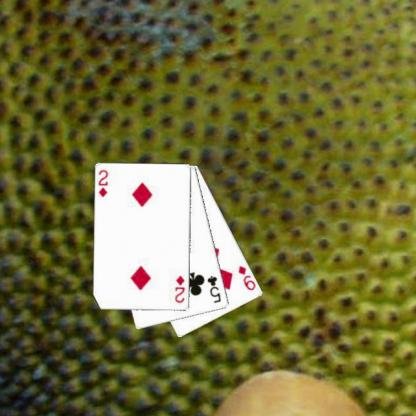2D: (172, 272, 187, 304), (95, 167, 110, 198)
5C: (205, 272, 222, 304)
9D: (235, 263, 257, 292)
